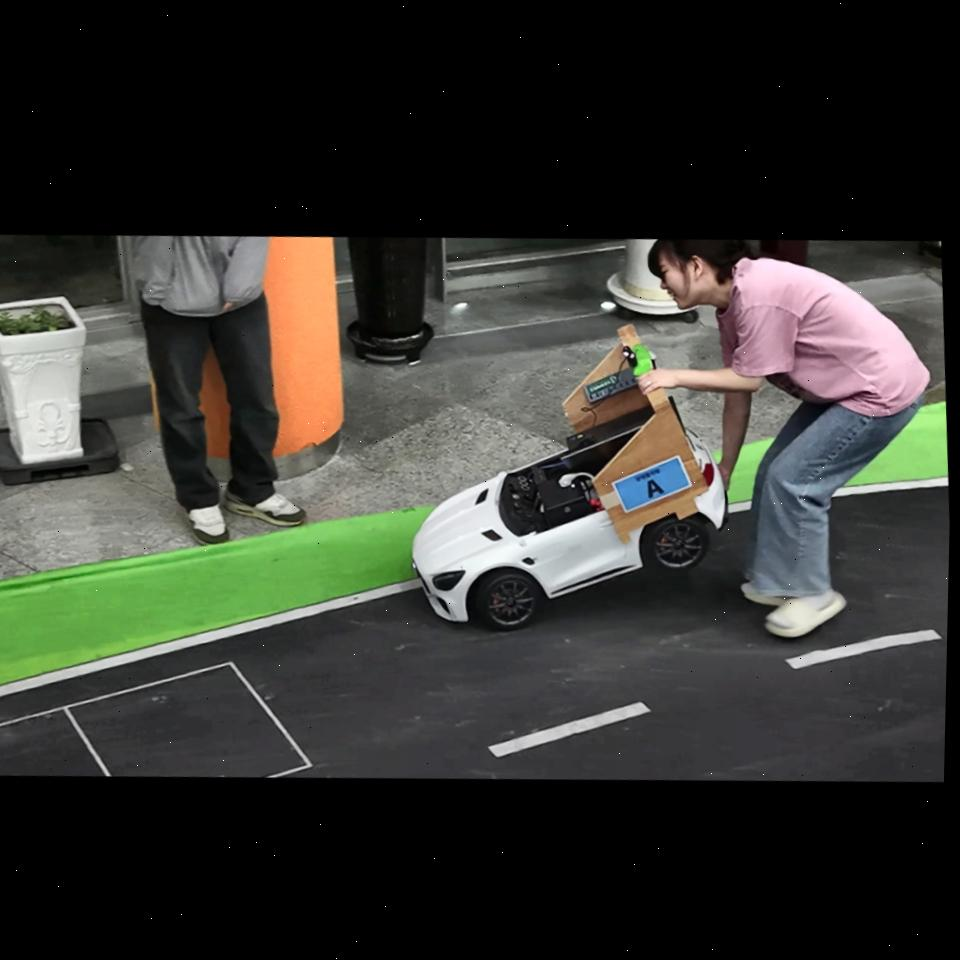broken_line: (488, 701, 651, 758), (784, 630, 942, 669)
